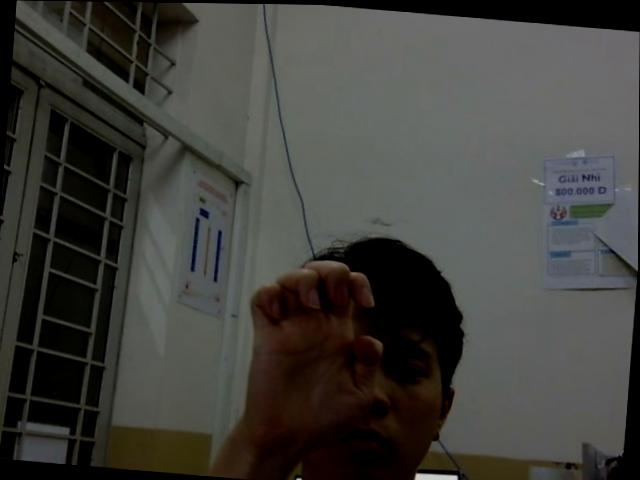E: (238, 251, 389, 448)
